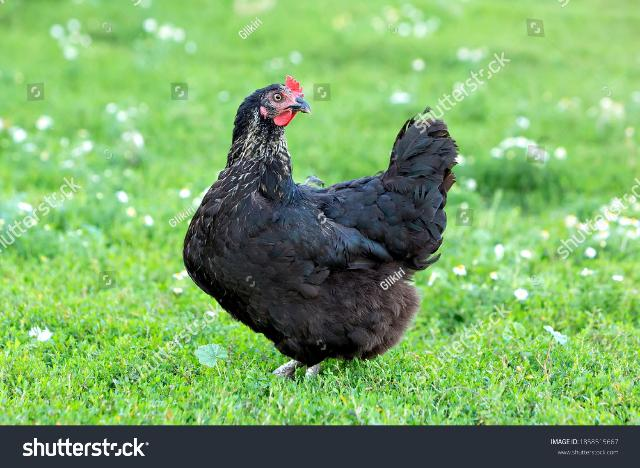Chicken: (180, 75, 459, 383)
